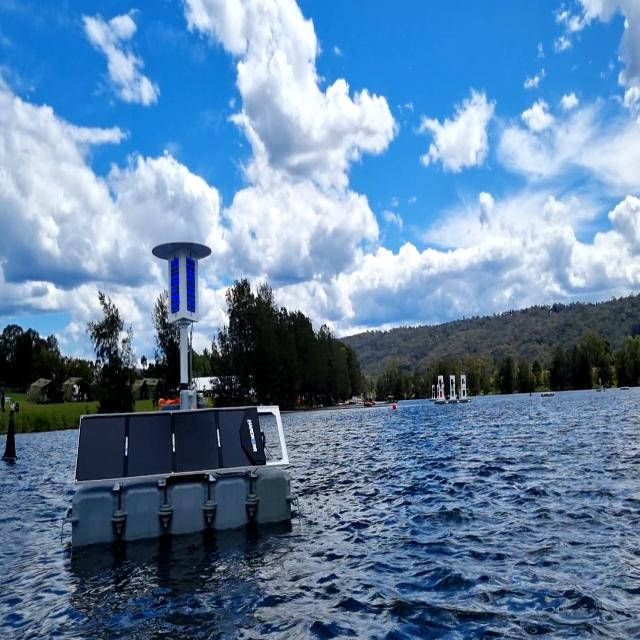led: (185, 253, 197, 316), (169, 257, 181, 314)
